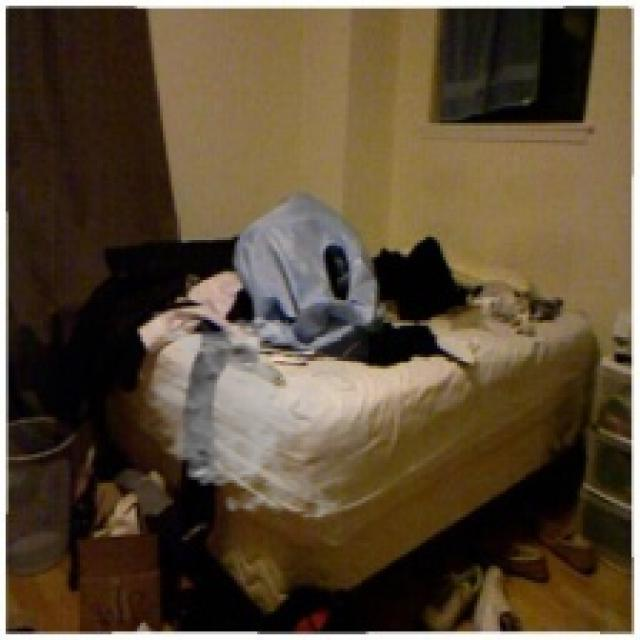smoke: (140, 311, 369, 526)
